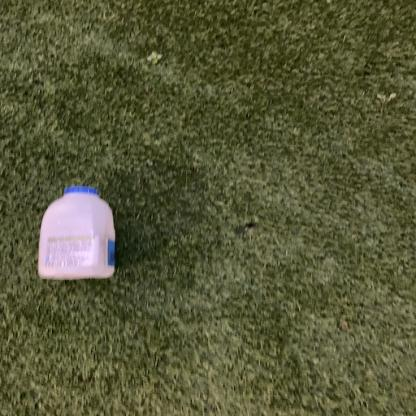trash: (33, 184, 117, 285)
